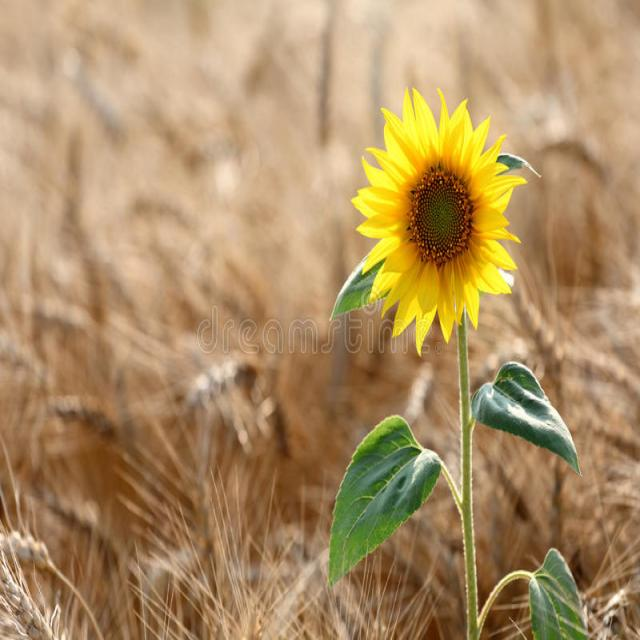sunflower: (349, 77, 518, 350)
